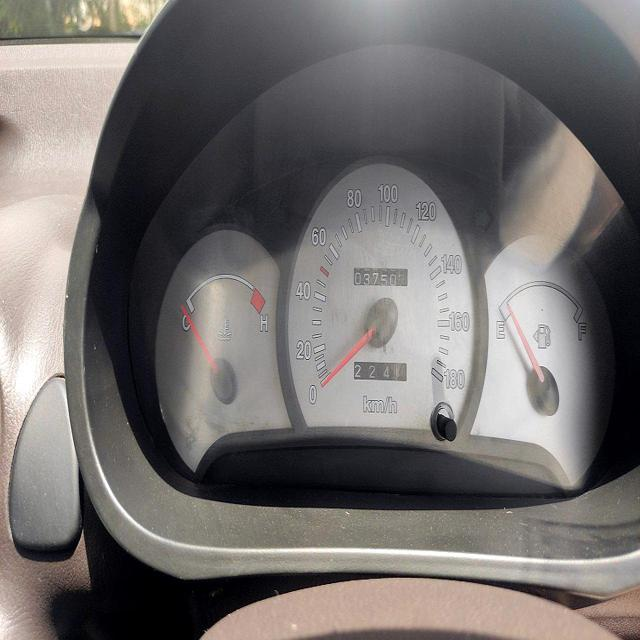odometer: (354, 265, 408, 286)
